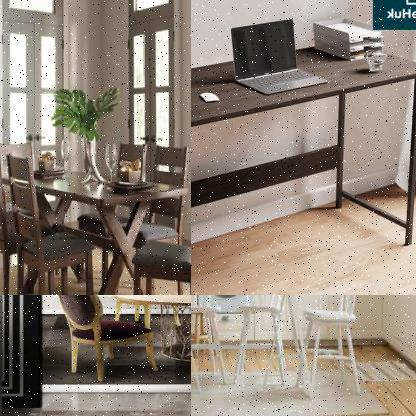table: (191, 27, 415, 294), (0, 162, 190, 294), (191, 295, 333, 406), (108, 295, 190, 378)
